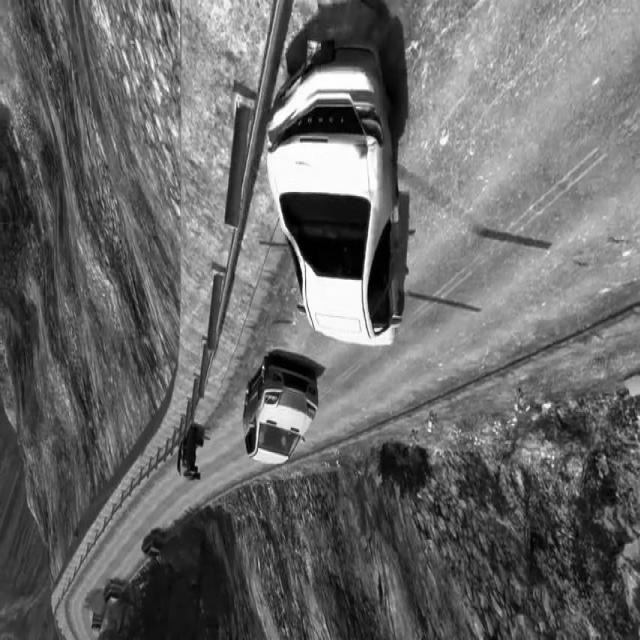severe: (176, 424, 205, 484)
